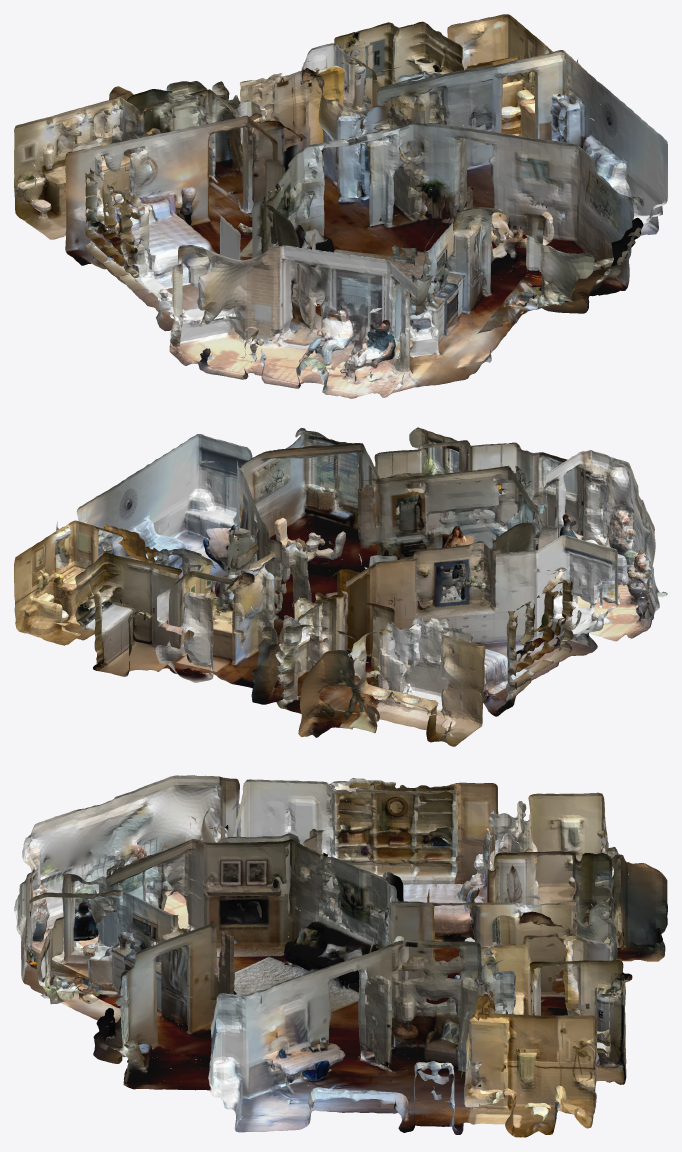
The picture shows the model from 3 angles, top to bottom: view 1: azimuth 30°, elevation 25°; view 2: azimuth 150°, elevation 25°; view 3: azimuth 270°, elevation 25°; orthographic projection. The views are drawn at different scales.
Size of the model in its own units: 12.91 by 2.62 by 13.16.
Materials: 12 (12 with a texture image).
